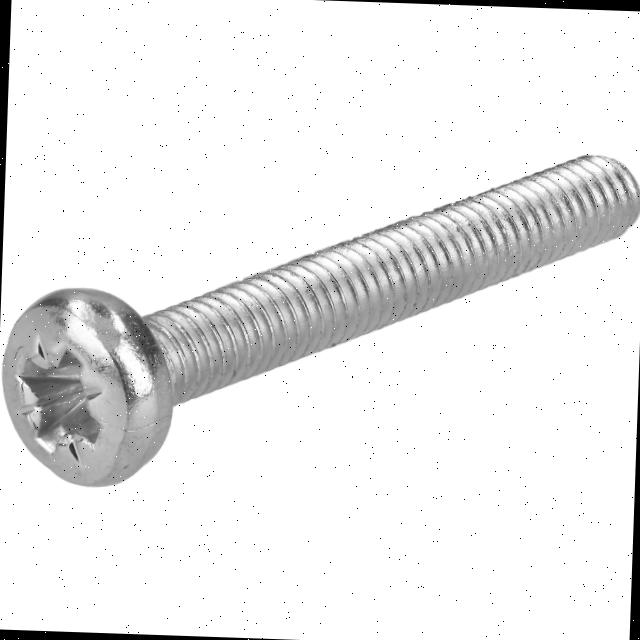Pozidriv: (0, 285, 138, 490)
